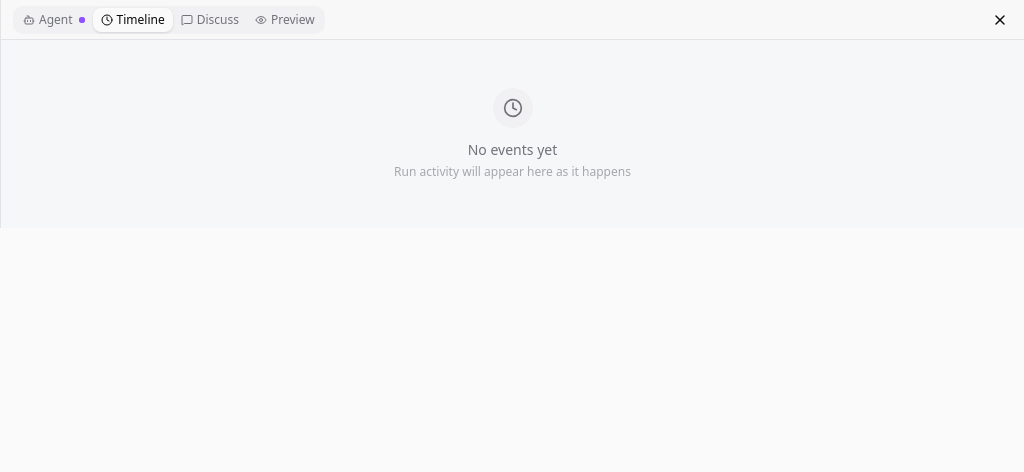
Test: IntentActivityPanel Agent tab › defaults to Progress, hides routine tool chatter, and shows Raw transcript on toggle
The image size is (1024, 472).
Click the tab "Agent" at (54, 20), box 15,8 -> 93,32
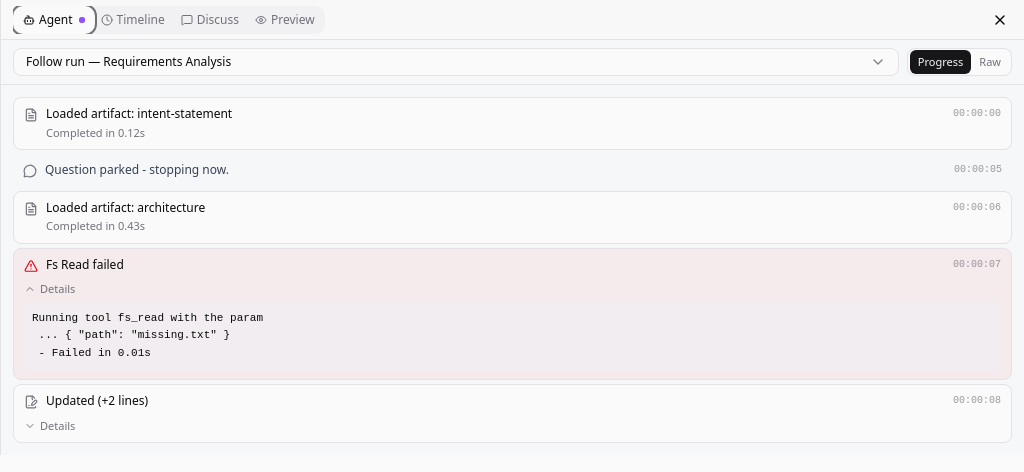
Result: the text "Loaded artifact: intent-statement" is shown at 46,106 -> 232,122
Result: the text "Loaded artifact: architecture" is shown at 46,200 -> 205,216
Result: the text "Fs Read failed" is shown at 46,256 -> 124,273
Click the button "Raw" at (990, 62), box 971,50 -> 1009,74
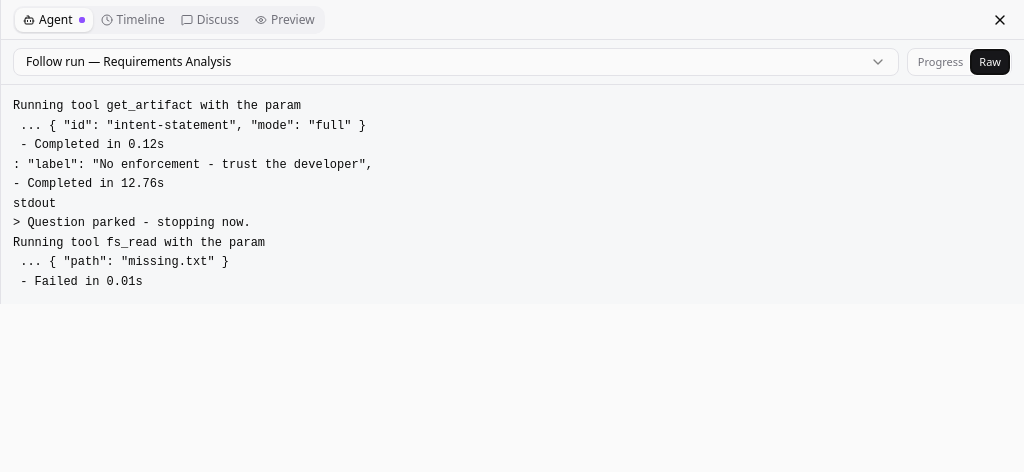
Result: the text "Running tool get_artifact" is shown at 13,99 -> 373,288
